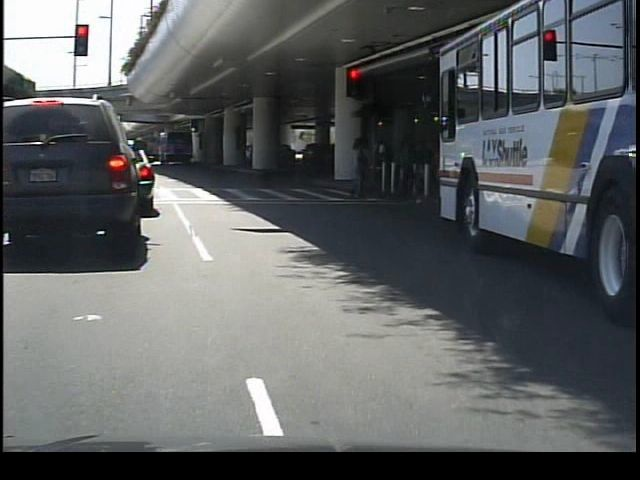person: (342, 136, 376, 203)
